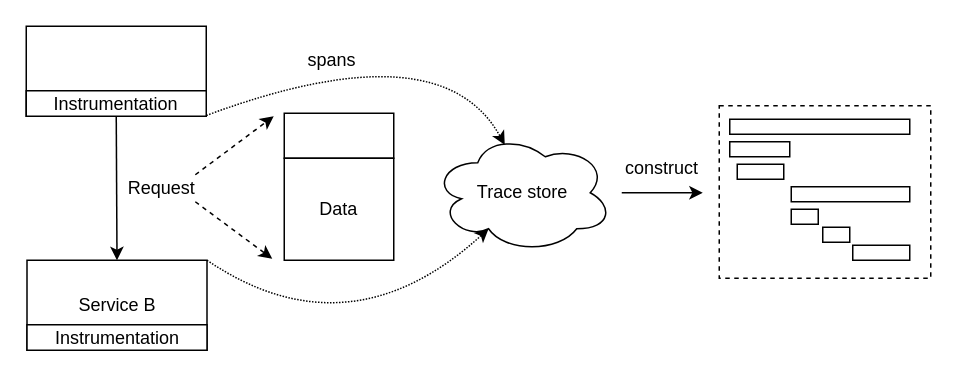
The diagram is 957 pixels wide and 377 high, and some of its shapes have lost their labels. The box of each missing label's shape, as (x1, y1, x2, y2) in pixels:
Metadata: (283, 112, 394, 158)
Service A: (25, 25, 206, 116)
